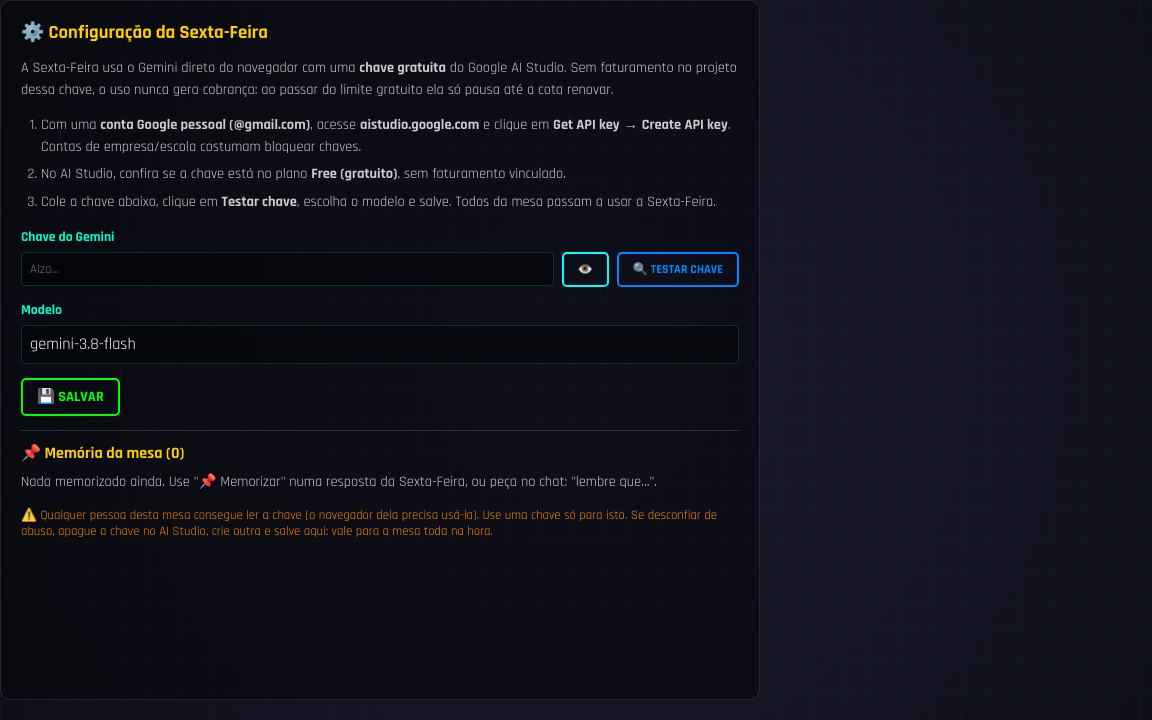
Scenario: AIConfig › erro ao testar mostra a mensagem e limpa modelos
Type "K" into the password field labelled "Chave do Gemini 👁️ 🔍 Testar chave" at coordinates (287, 269), box [21,252,554,286]
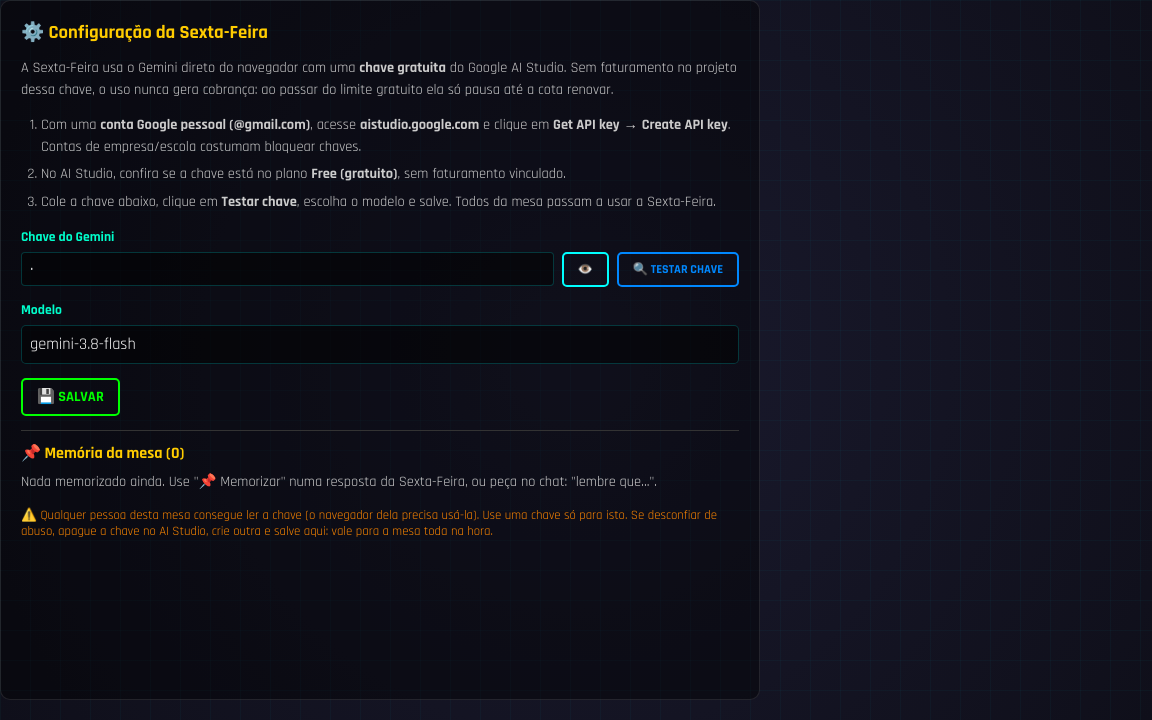
Click the button "🔍 Testar chave" at coordinates (678, 269), box [617,252,739,287]
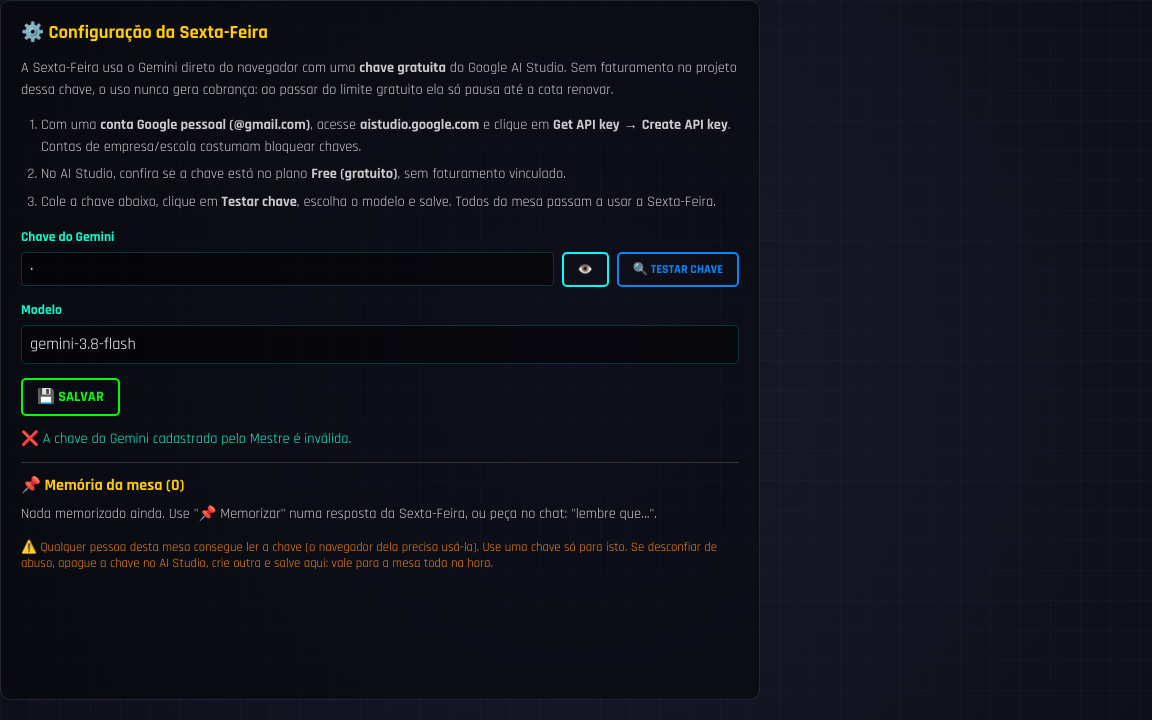
Expected: the text "❌ A chave do Gemini cadastrada pelo Mestre é inválida." is shown, [21,430,351,448]
